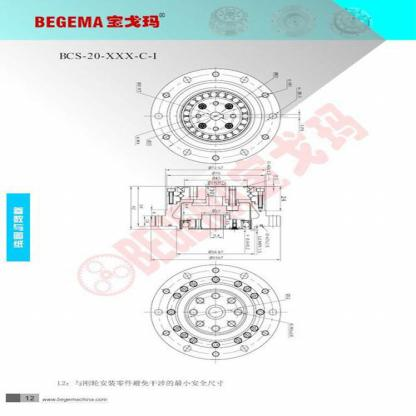FOD: (148, 67, 283, 164)
